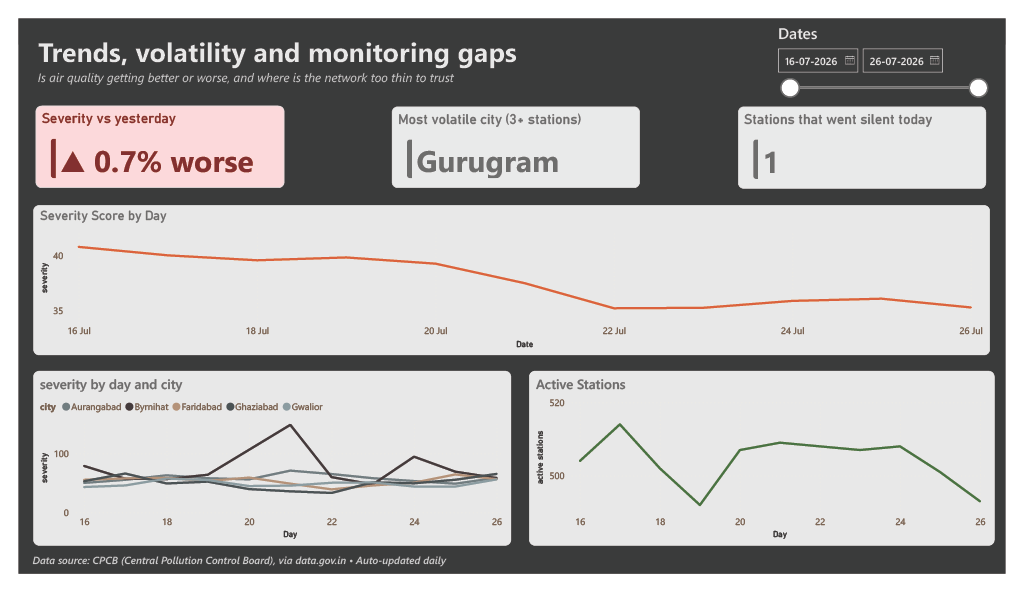

The page's visual inventory and layout, read from the dashboard file:
{"tool":"powerbi","page":{"name":"Trends & Volatility","canvas":[1280,720],"ordinal":2},"visuals":[{"type":"textbox","title":"Trends, volatility and monitoring gaps","box":[12,12,648,104],"z":0},{"type":"slicer","title":"Date","fields":{"Values":["aqi_project readings.last_update"]},"box":[971.9,0,294.3,154.3],"z":1000},{"type":"cardVisual","title":"Severity vs yesterday","fields":{"Data":["aqi_project readings.Day Over Day Change Label"]},"box":[22.3,112.9,322.9,106.9],"z":2000,"group":"g1"},{"type":"lineChart","title":"Severity Score by Day","fields":{"Y":["aqi_project readings.Severity Score"],"Category":["aqi_project readings.last_update.Variation.Date Hierarchy.Year","aqi_project readings.last_update.Variation.Date Hierarchy.Quarter","aqi_project readings.last_update.Variation.Date Hierarchy.Month","aqi_project readings.last_update.Variation.Date Hierarchy.Day"]},"box":[19.1,241.8,1240.7,195.2],"z":2000},{"type":"group","id":"g1","title":"Group 1","box":[22.3,112.9,1232.7,108.2],"z":3000},{"type":"cardVisual","title":"Most volatile city (3+ stations)","fields":{"Data":["aqi_project readings.Most Volatile City"]},"box":[483.8,113.5,322,106.6],"z":3000,"group":"g1"},{"type":"lineChart","title":"severity by day and city","fields":{"Category":["aqi_project readings.last_update.Variation.Date Hierarchy.Year","aqi_project readings.last_update.Variation.Date Hierarchy.Quarter","aqi_project readings.last_update.Variation.Date Hierarchy.Month","aqi_project readings.last_update.Variation.Date Hierarchy.Day"],"Series":["aqi_project stations.city"],"Y":["aqi_project readings.Severity Score"]},"box":[19.1,456.5,620.2,227.2],"z":3000,"group":"g2"},{"type":"cardVisual","title":"Stations that went silent today","fields":{"Data":["aqi_project readings.Stations Silent Today"]},"box":[933.6,114.1,322,106.6],"z":4000,"group":"g1"},{"type":"group","id":"g2","title":"Group 2","box":[19.1,456.5,1247,227.5],"z":4000},{"type":"lineChart","title":"Active Stations","fields":{"Category":["aqi_project readings.last_update.Variation.Date Hierarchy.Year","aqi_project readings.last_update.Variation.Date Hierarchy.Quarter","aqi_project readings.last_update.Variation.Date Hierarchy.Month","aqi_project readings.last_update.Variation.Date Hierarchy.Day"],"Y":["aqi_project readings.Active Stations Count"]},"box":[661.7,456.5,604.4,227.5],"z":4000,"group":"g2"},{"type":"textbox","title":"Data source: CPCB (Central Pollution Control Board), via data.gov.in • Auto-updated daily","box":[12.7,693.5,839.8,27],"z":5000}]}

Visuals, with their boxes in screenshot pixels (x1, y1, x2, y2), scaled from the page's 1280x720 canvas onto the 1024x592 screenshot:
"Trends, volatility and monitoring gaps" textbox: select_region(10, 10, 528, 95)
"Date" slicer: select_region(778, 0, 1013, 127)
"Severity vs yesterday" cardVisual: select_region(18, 93, 276, 181)
"Severity Score by Day" lineChart: select_region(15, 199, 1008, 359)
"Group 1" group: select_region(18, 93, 1004, 182)
"Most volatile city (3+ stations)" cardVisual: select_region(387, 93, 645, 181)
"severity by day and city" lineChart: select_region(15, 375, 511, 562)
"Stations that went silent today" cardVisual: select_region(747, 94, 1004, 181)
"Group 2" group: select_region(15, 375, 1013, 562)
"Active Stations" lineChart: select_region(529, 375, 1013, 562)
"Data source: CPCB (Central Pollution Control Board), via data.gov.in • Auto-updated daily" textbox: select_region(10, 570, 682, 591)
